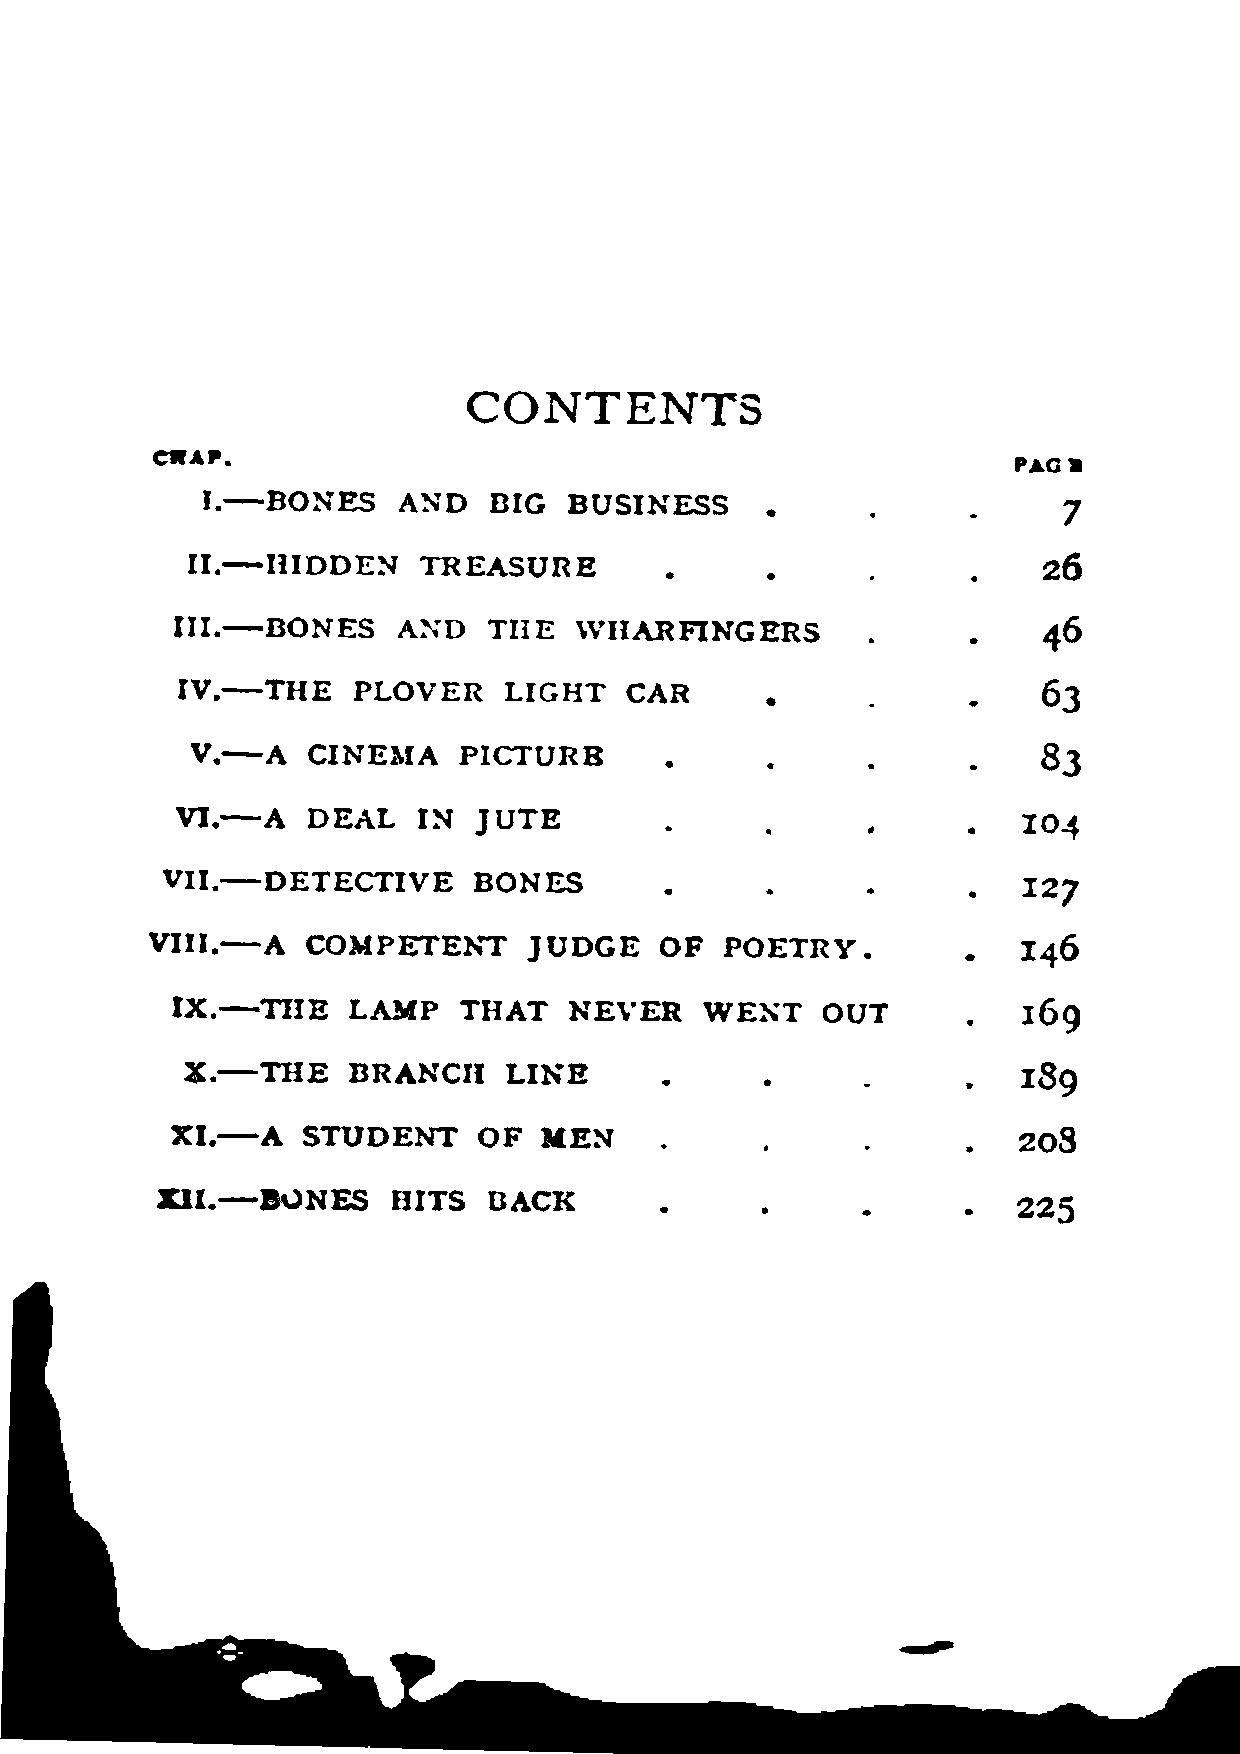TOC_chapter: (146, 926, 858, 961), (168, 992, 890, 1025), (170, 612, 823, 644), (197, 484, 733, 519), (172, 674, 694, 707), (164, 1117, 615, 1151), (180, 549, 597, 582), (153, 1180, 578, 1212), (158, 864, 582, 896), (176, 803, 564, 837), (187, 737, 607, 768), (183, 1057, 589, 1087)
TOC_pagenumber: (1019, 992, 1082, 1037), (1017, 930, 1082, 972), (1019, 1056, 1078, 1096), (1013, 1188, 1076, 1224), (1017, 1121, 1076, 1157), (1017, 809, 1082, 841), (1021, 874, 1078, 909), (1036, 735, 1082, 778), (1039, 612, 1083, 651), (1037, 675, 1082, 714), (1039, 552, 1086, 581), (1055, 488, 1084, 531)
chapter: (463, 386, 762, 425), (613, 427, 615, 428)
